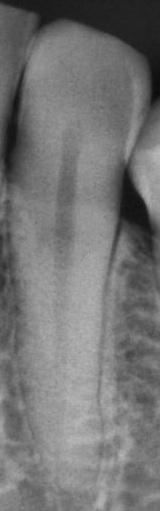tooth: (6, 17, 153, 497)
